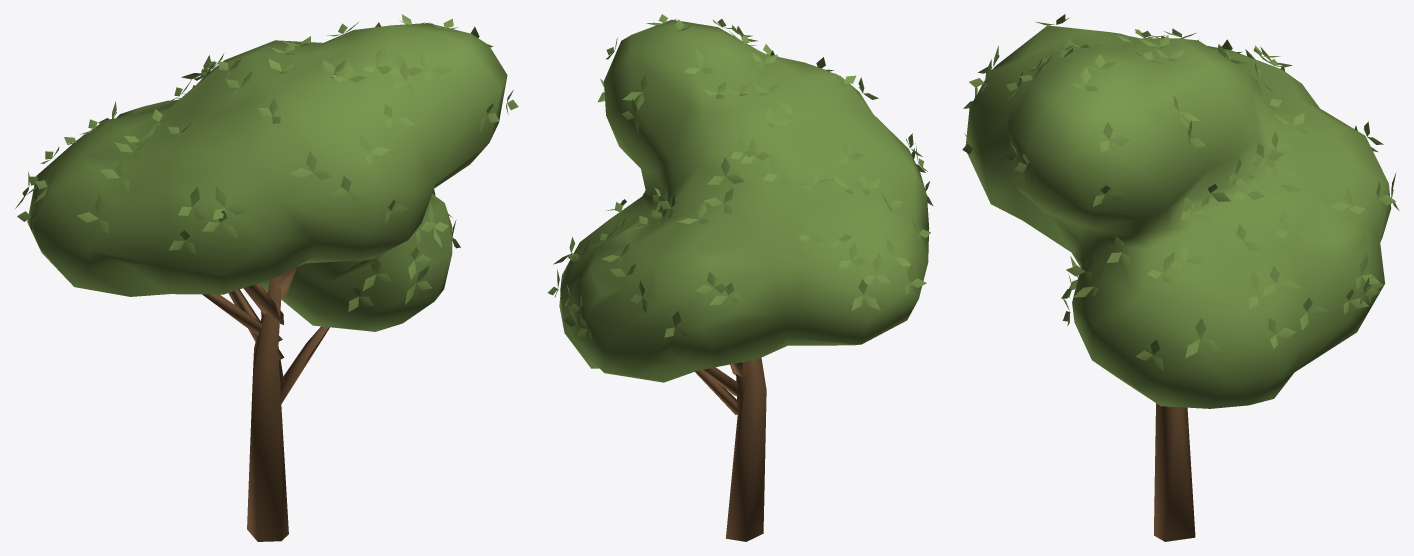
The model's file is layered-a-light.glb.
The picture shows the model from 3 angles, left to right: view 1: azimuth 30°, elevation 25°; view 2: azimuth 150°, elevation 25°; view 3: azimuth 270°, elevation 25°; orthographic projection. The views are drawn at different scales.
Parts seen in each view (by area): view 1: layered-a.001; view 2: layered-a.001; view 3: layered-a.001.
Part boxes in pixels (x1,y1,x2,y2): layered-a.001: (15, 14, 518, 541); layered-a.001: (547, 14, 933, 541); layered-a.001: (962, 14, 1399, 541).
Size of the model in its own units: 1.8 by 2.15 by 1.62.
